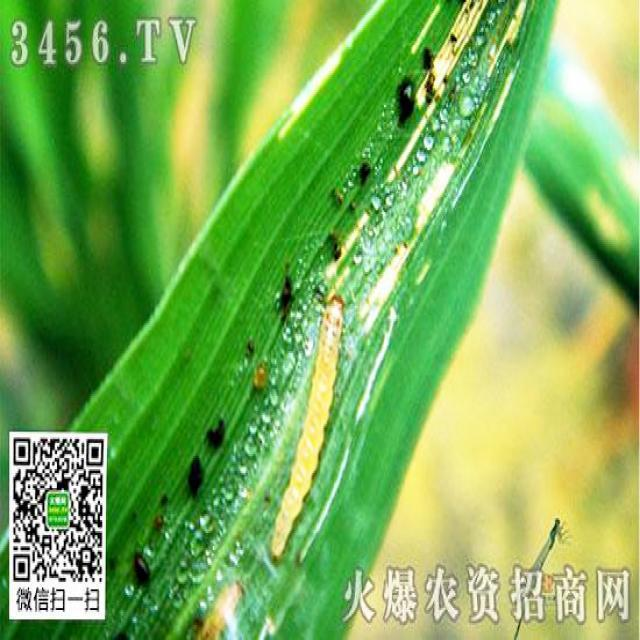leaf-folder: (270, 280, 345, 564)
